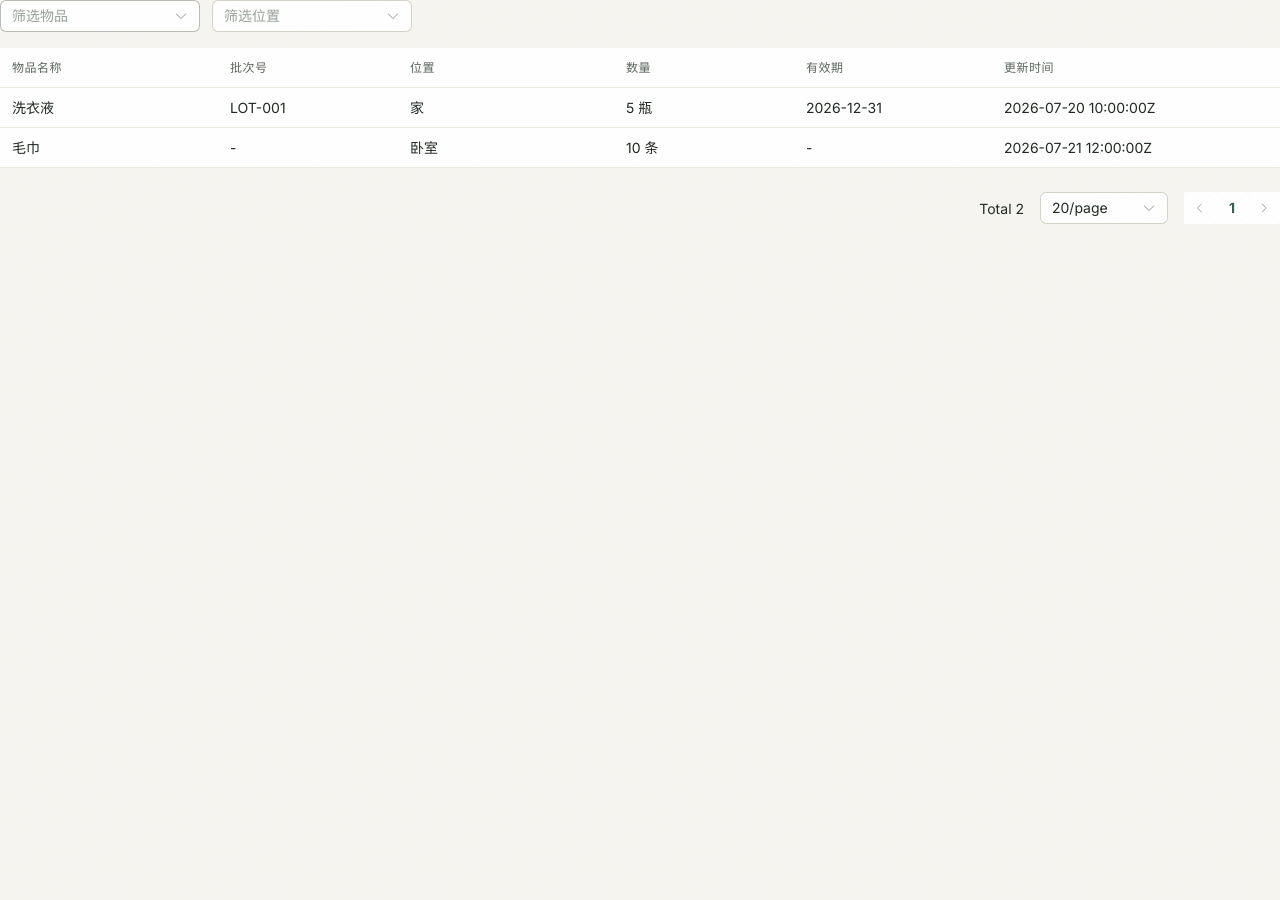
CurrentStockTab › opens drawer with movements when row is clicked
Click the row "洗衣液 LOT-001 家 5 瓶 2026-12-31 2026-07-20 10:00:00Z": {"x": 640, "y": 108} [0,88,1279,128]
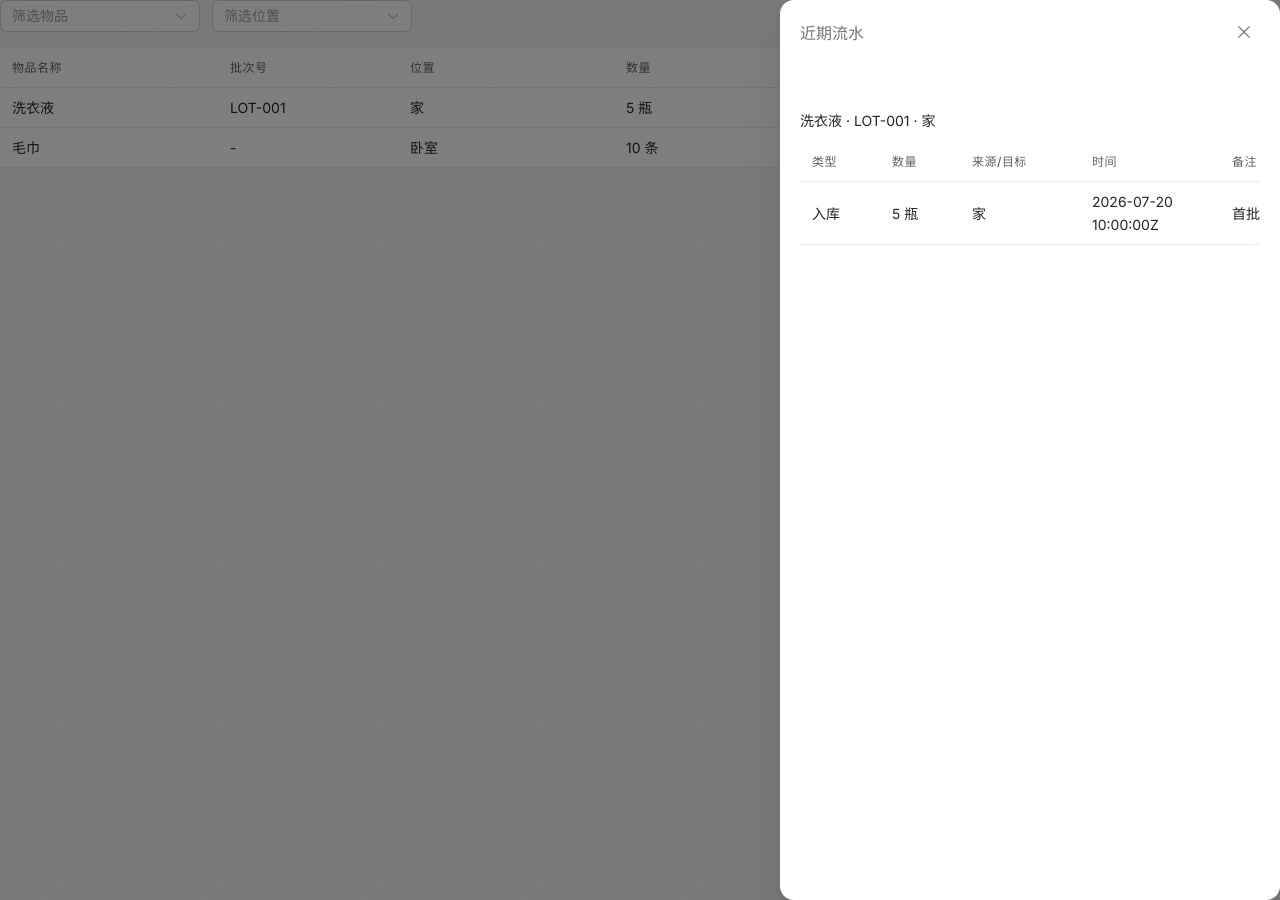
Check: the text "近期流水" is shown, box [800,23,864,43]
Check: the text "入库" is shown, box [812,204,840,222]
